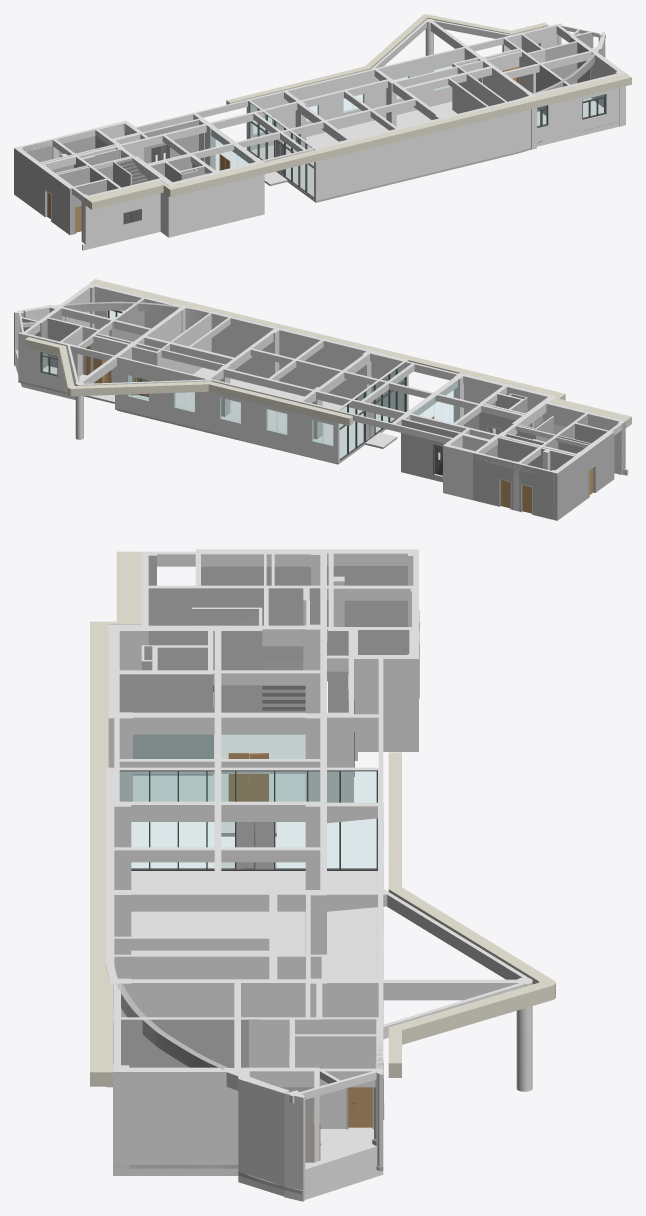
The picture shows the model from 3 angles, top to bottom: view 1: azimuth 30°, elevation 25°; view 2: azimuth 150°, elevation 25°; view 3: azimuth 270°, elevation 25°; orthographic projection. The views are drawn at different scales.
Parts seen in each view (by area): view 1: Floor_铝板__2261338__1; view 2: Floor_铝板__2261338__1; view 3: Floor_铝板__2261338__1.
Part boxes in pixels (x1,y1,x2,y2): Floor_铝板__2261338__1: (14, 14, 631, 250); Floor_铝板__2261338__1: (14, 279, 631, 520); Floor_铝板__2261338__1: (90, 549, 555, 1201).
Size of the model in its own units: 48410 by 4420 by 17352.
